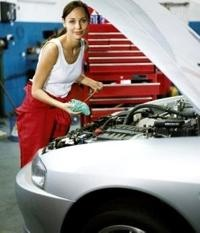person without safety: (18, 1, 93, 145)
